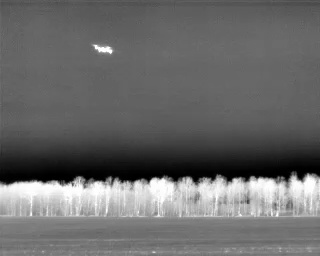DRONE: (90, 40, 118, 59)
